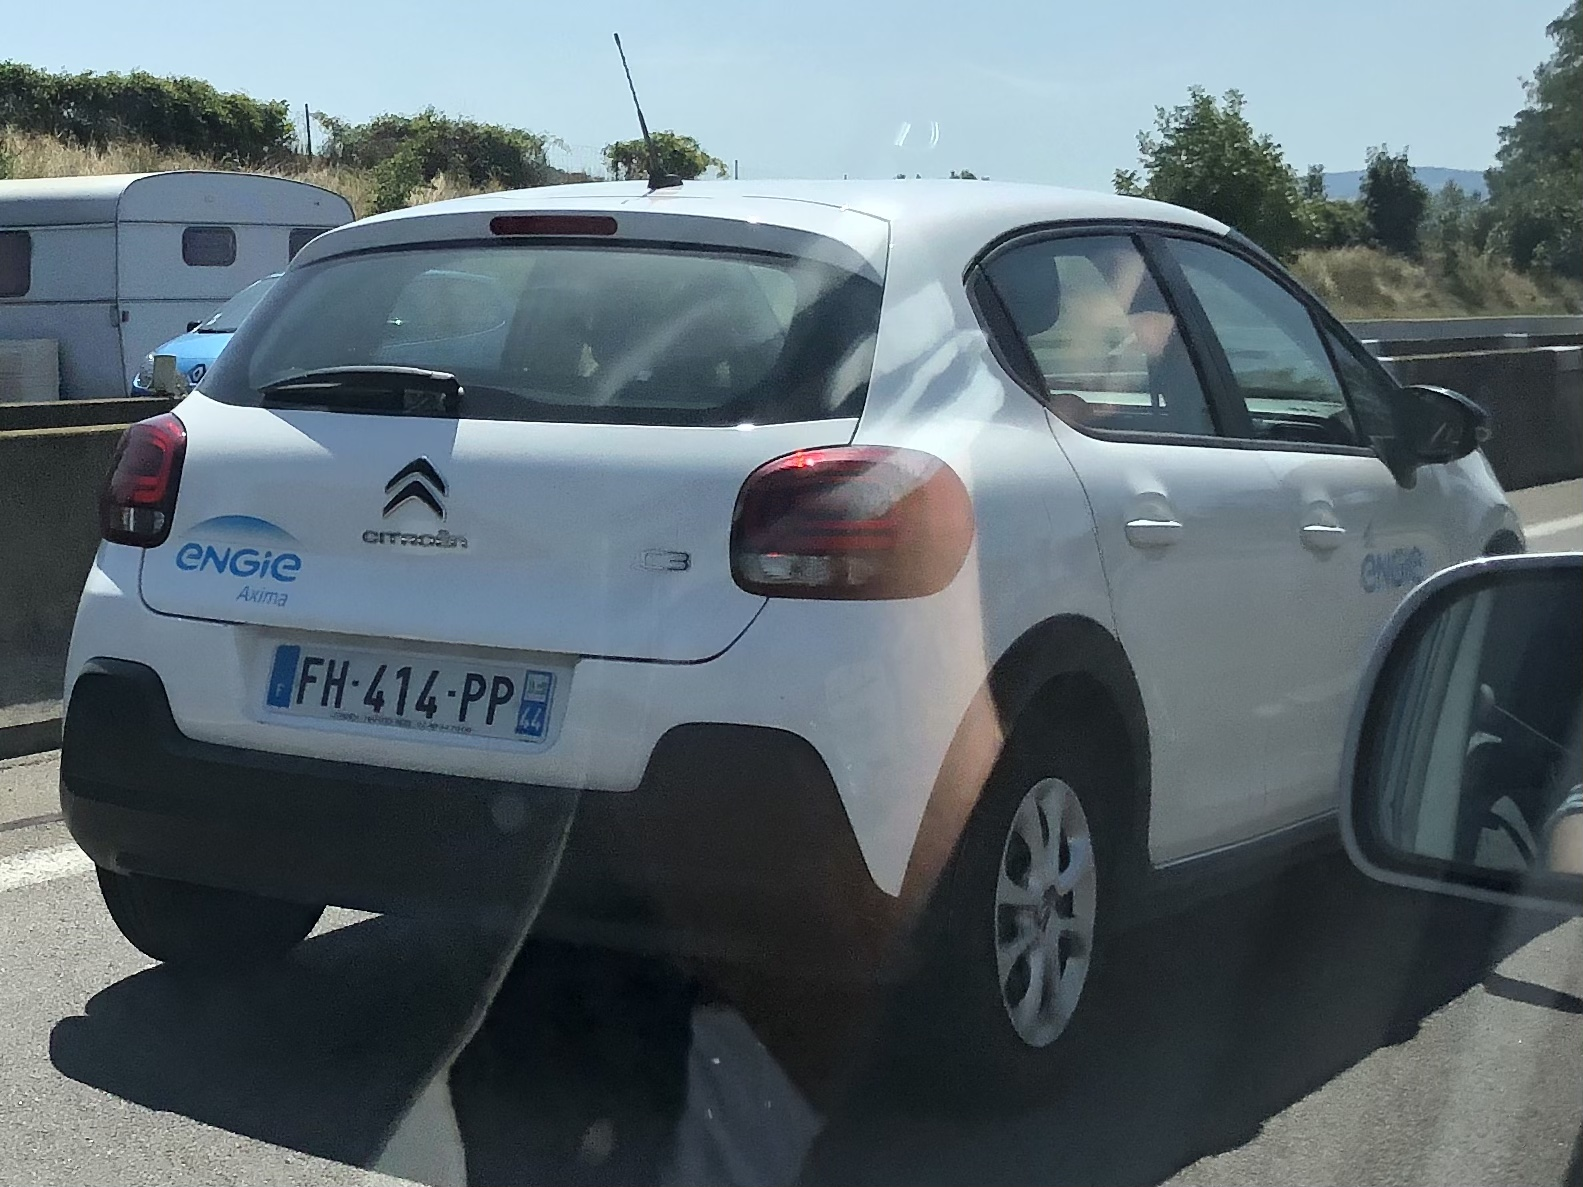licence plate: (257, 636, 563, 751)
